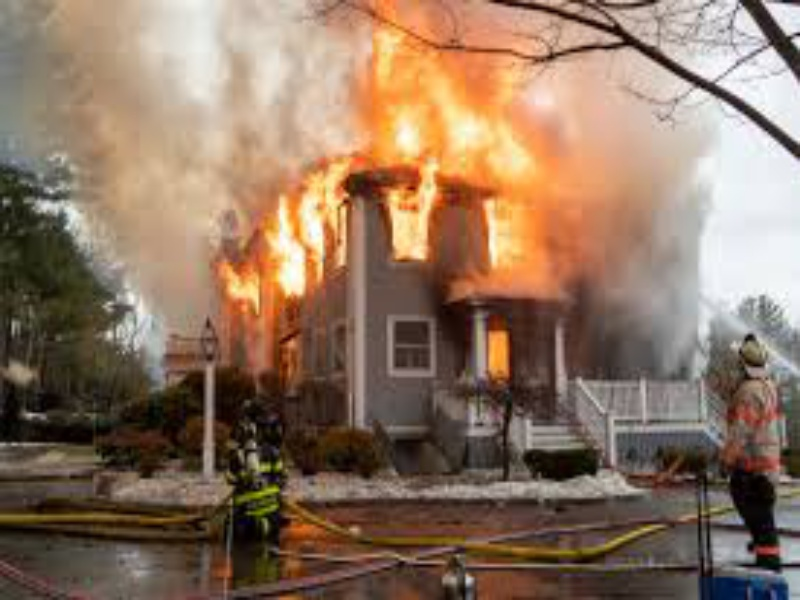fire: (372, 23, 542, 184), (204, 186, 335, 301), (483, 188, 550, 275), (386, 186, 437, 268)
